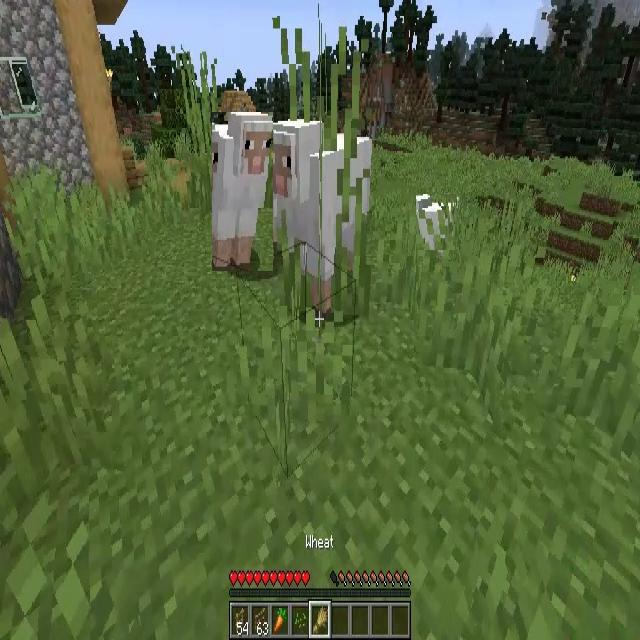sheep: (272, 118, 375, 310), (212, 112, 273, 271), (416, 194, 457, 250)
